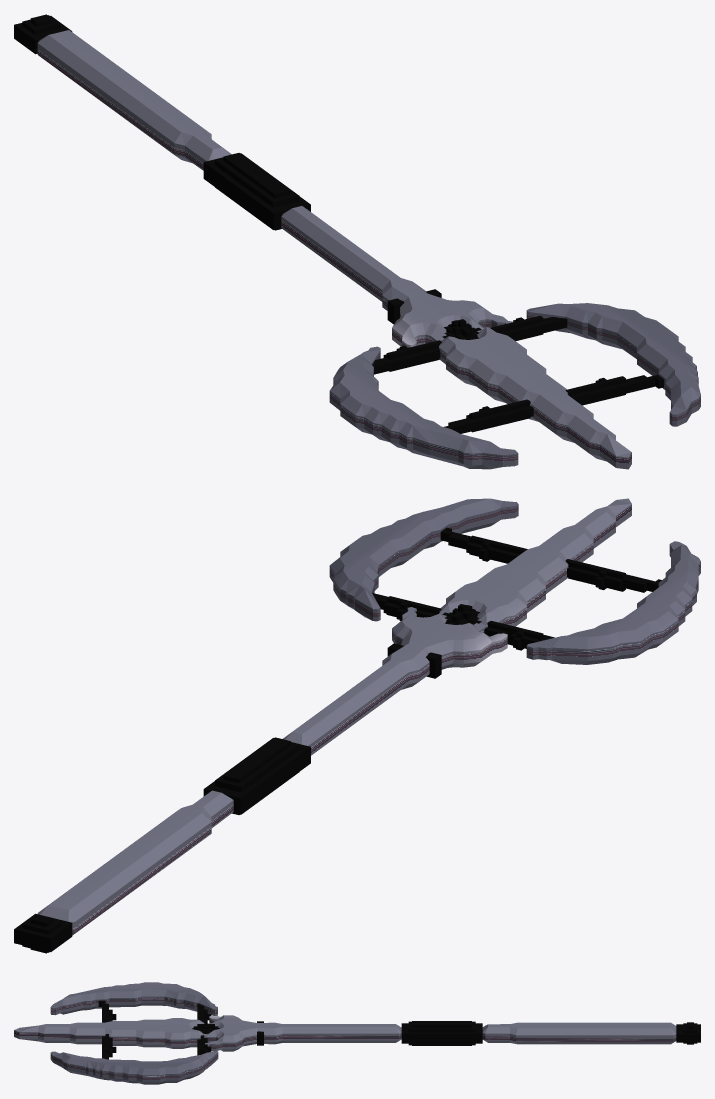
The model's file is black_iron_halberd.obj.
3 renders of one model, top to bottom at view 1: azimuth 30°, elevation 25°; view 2: azimuth 150°, elevation 25°; view 3: azimuth 270°, elevation 25°, orthographic. The views are drawn at different scales.
Parts seen in each view (by area): view 1: black_iron_halberd; view 2: black_iron_halberd; view 3: black_iron_halberd.
Boxes of the visible parts, bbox=[...] form: black_iron_halberd: bbox=[14, 14, 700, 469]; black_iron_halberd: bbox=[14, 498, 700, 953]; black_iron_halberd: bbox=[14, 982, 700, 1084].
Bounding box in the file's own units: 0.6354 × 0.0781 × 2.03.
